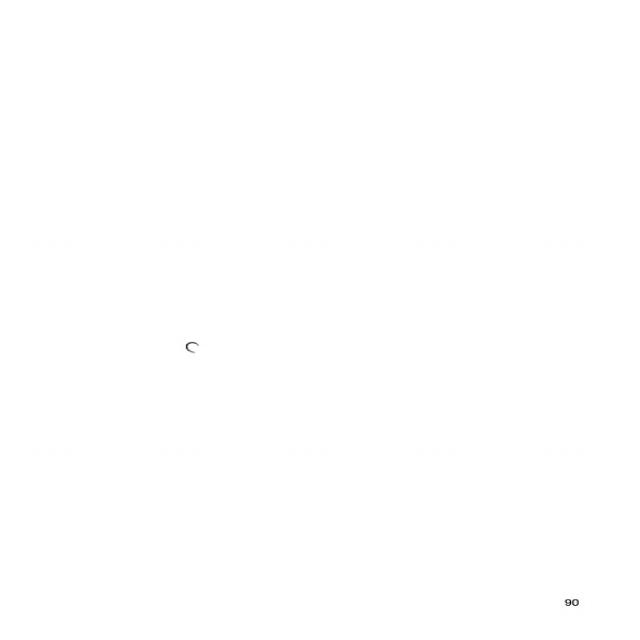2 -two-: (180, 338, 203, 357)
